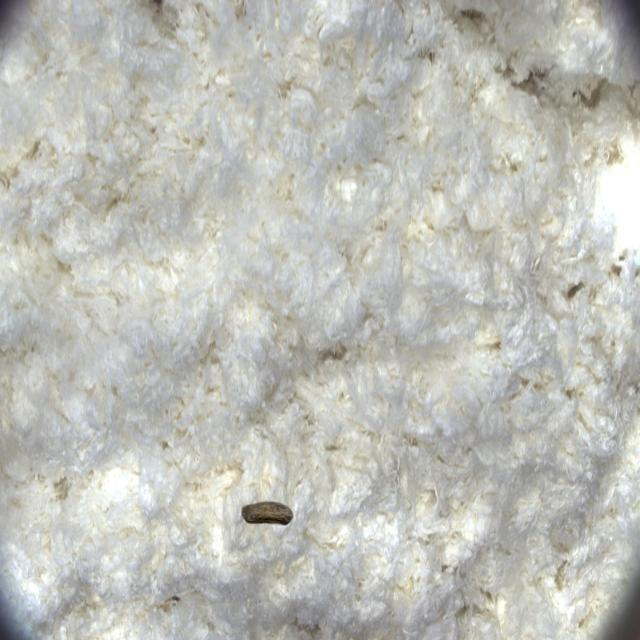dust: (220, 460, 311, 576)
